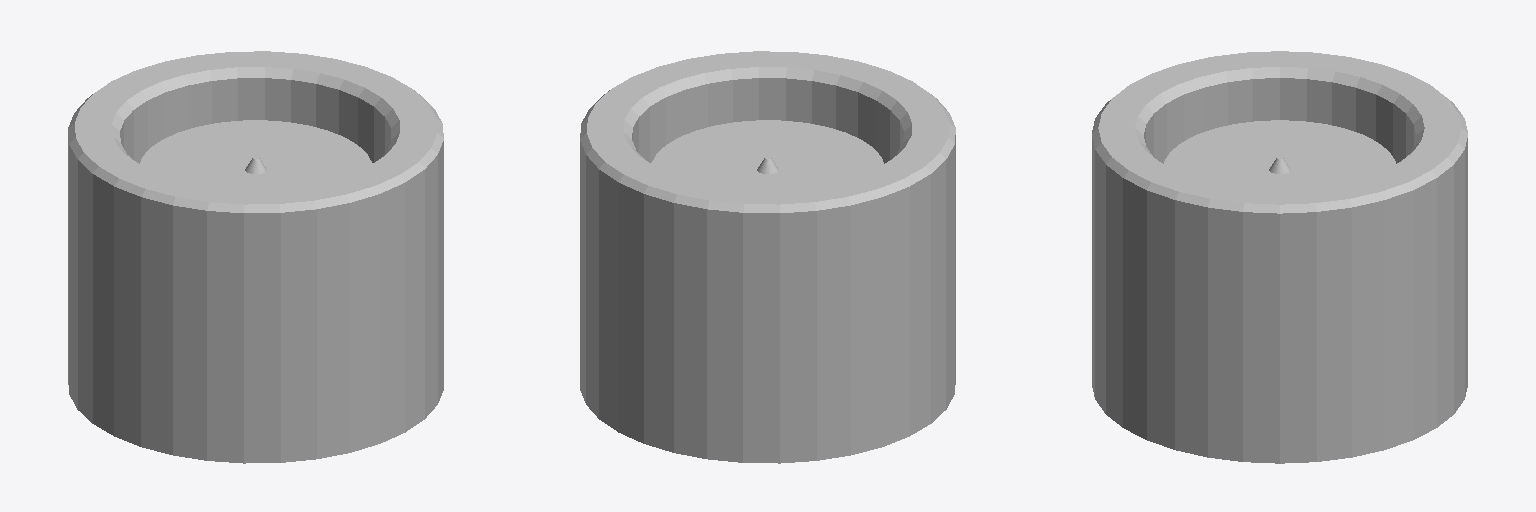
File: lumber_harvester.obj
The picture shows the model from 3 angles: view 1: azimuth 30°, elevation 25°; view 2: azimuth 150°, elevation 25°; view 3: azimuth 270°, elevation 25°; orthographic projection.
Parts seen in each view (by area): view 1: Cylinder; view 2: Cylinder; view 3: Cylinder.
Part boxes in pixels (x1,y1,x2,y2): Cylinder: (68, 51, 443, 463); Cylinder: (580, 51, 955, 463); Cylinder: (1092, 51, 1467, 463).
Bounding box in the file's own units: 1.5 × 1.12 × 1.5.